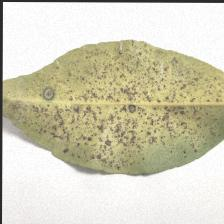canker: (35, 79, 151, 148)
